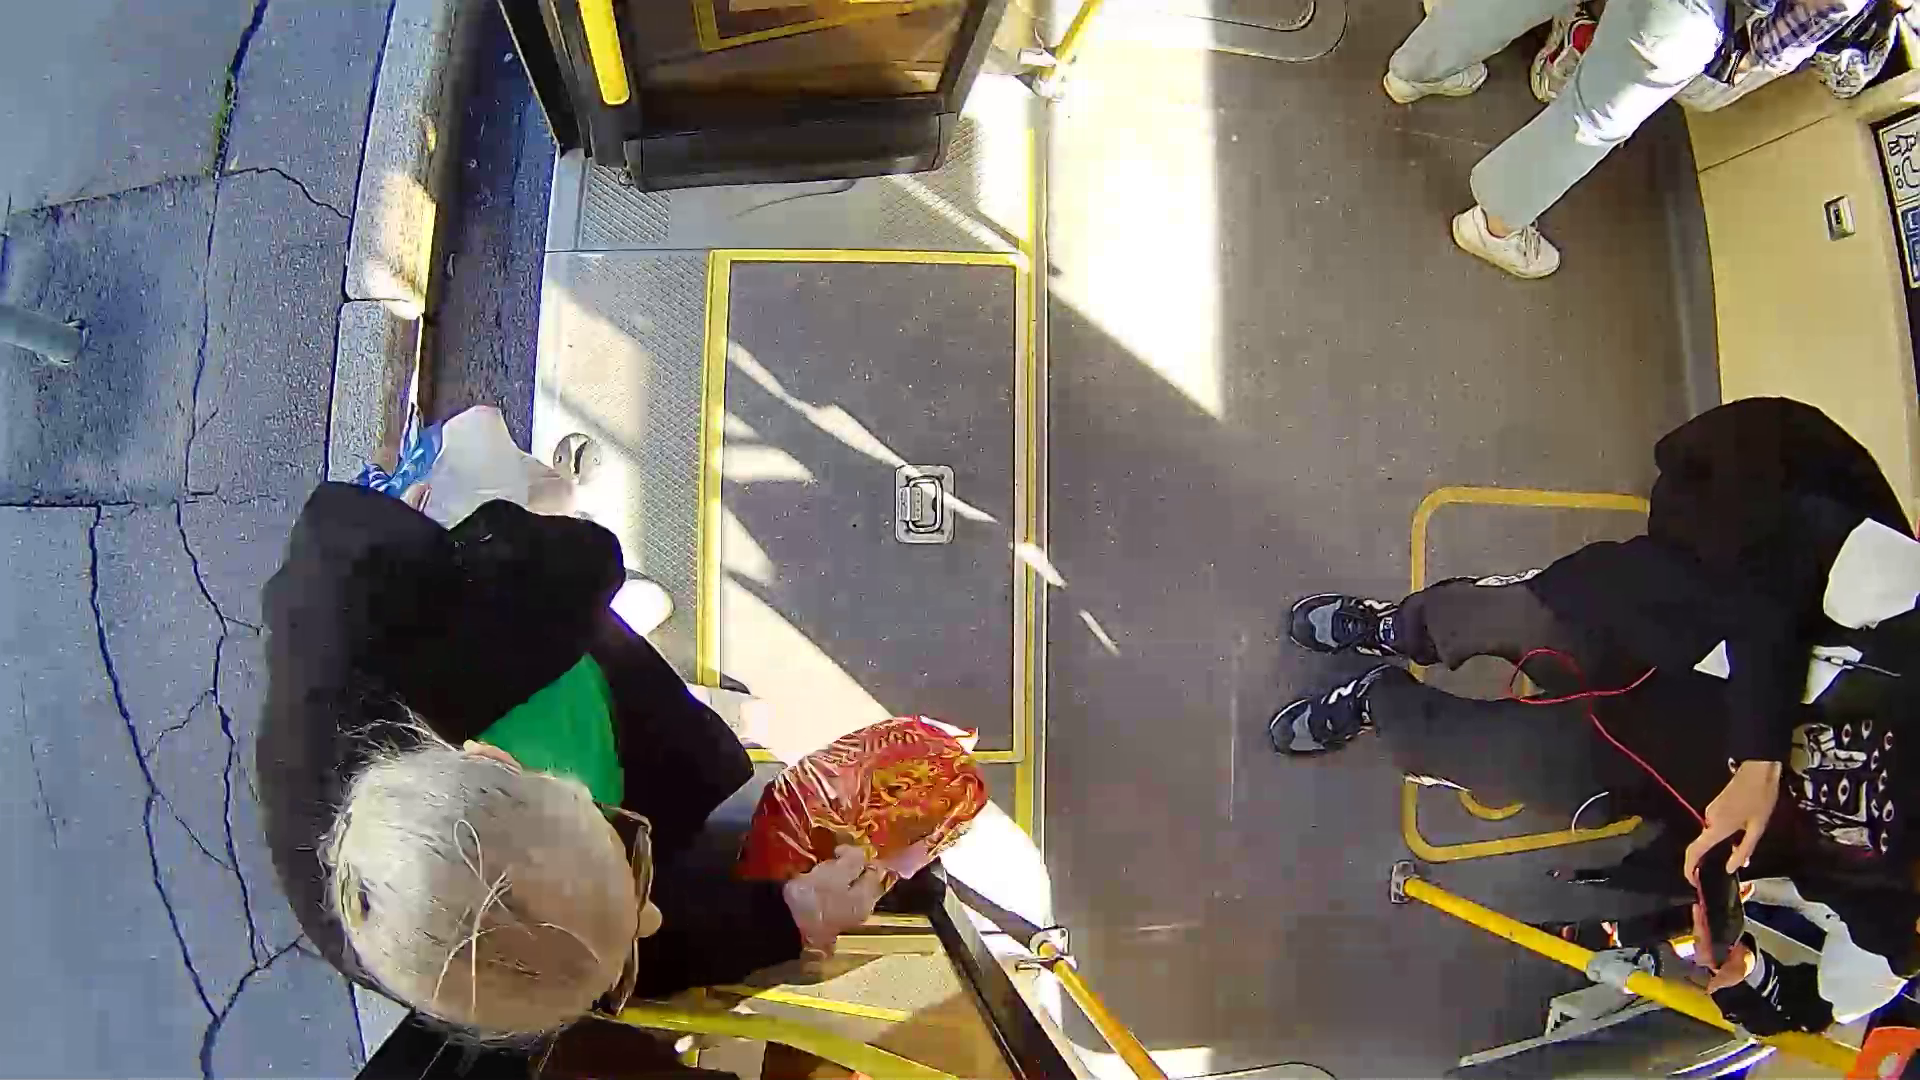person: (121, 409, 1125, 1037)
